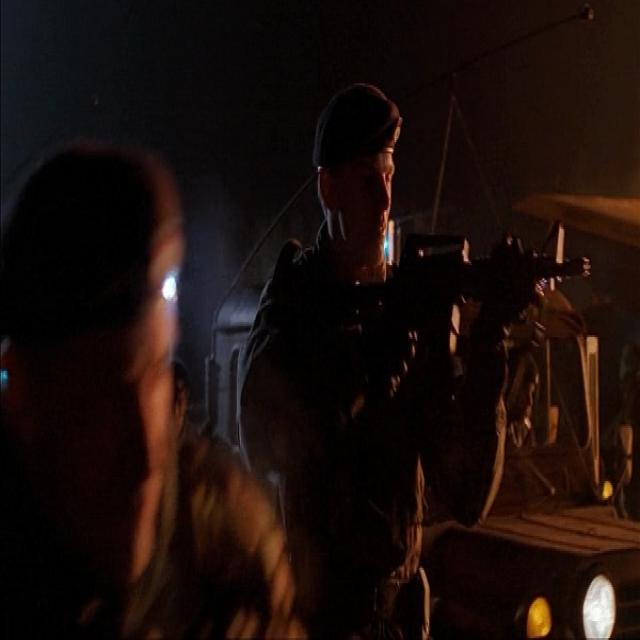rifle: (339, 212, 597, 376)
